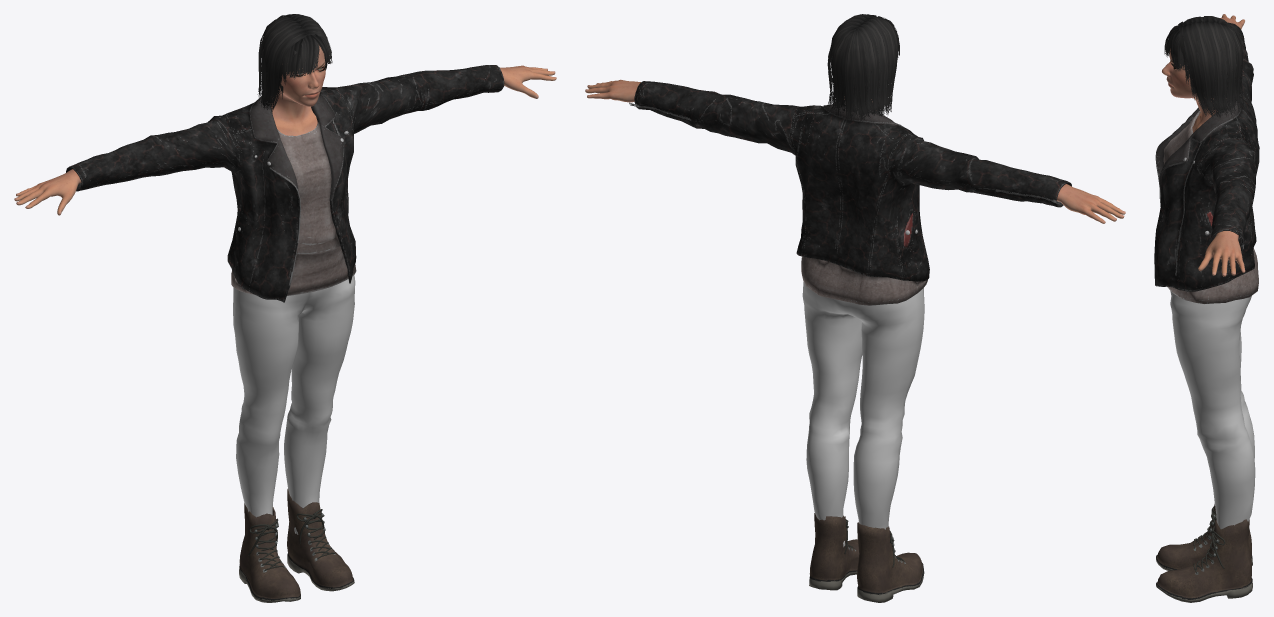
File: Enemy_04.obj
3 views of the same model, side by side, from view 1: azimuth 30°, elevation 25°; view 2: azimuth 150°, elevation 25°; view 3: azimuth 270°, elevation 25° (orthographic).
Parts seen in each view (by area): view 1: Tops, Bottoms, Shoes, Body, Hair; view 2: Tops, Bottoms, Shoes, Hair, Body; view 3: Tops, Bottoms, Shoes, Hair, Body.
Part boxes in pixels (left/top/right/bottom): Tops: left=66, top=65, right=504, bottom=302; Bottoms: left=233, top=275, right=355, bottom=534; Shoes: left=239, top=489, right=354, bottom=602; Body: left=14, top=44, right=556, bottom=215; Hair: left=257, top=14, right=332, bottom=112; Tops: left=629, top=81, right=1071, bottom=305; Bottoms: left=802, top=282, right=924, bottom=547; Shoes: left=809, top=513, right=924, bottom=602; Hair: left=827, top=14, right=899, bottom=123; Body: left=585, top=79, right=1125, bottom=223; Tops: left=1154, top=22, right=1259, bottom=303; Bottoms: left=1170, top=291, right=1255, bottom=529; Shoes: left=1156, top=504, right=1252, bottom=602; Hair: left=1164, top=16, right=1243, bottom=118; Body: left=1162, top=14, right=1245, bottom=276.
Bounding box in the file's own units: 179 × 180 × 30.52.
